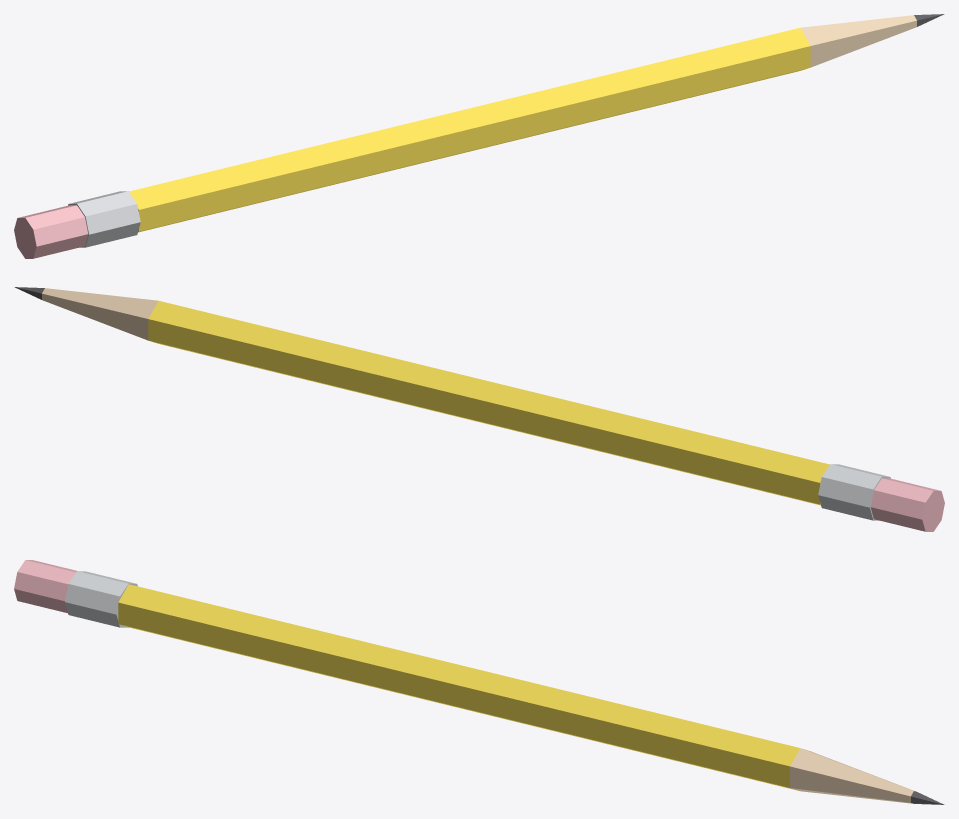
The model's file is pencil.glb.
3 views of the same model, one above another, from view 1: azimuth 30°, elevation 25°; view 2: azimuth 150°, elevation 25°; view 3: azimuth 330°, elevation 25° (orthographic).
Bounding box in the file's own units: 0.178 × 0.00816 × 0.00816.
